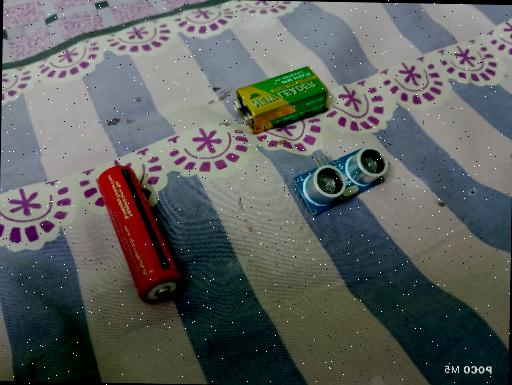Battery: (95, 165, 187, 305), (232, 64, 329, 136)
sensor: (292, 144, 388, 218)
